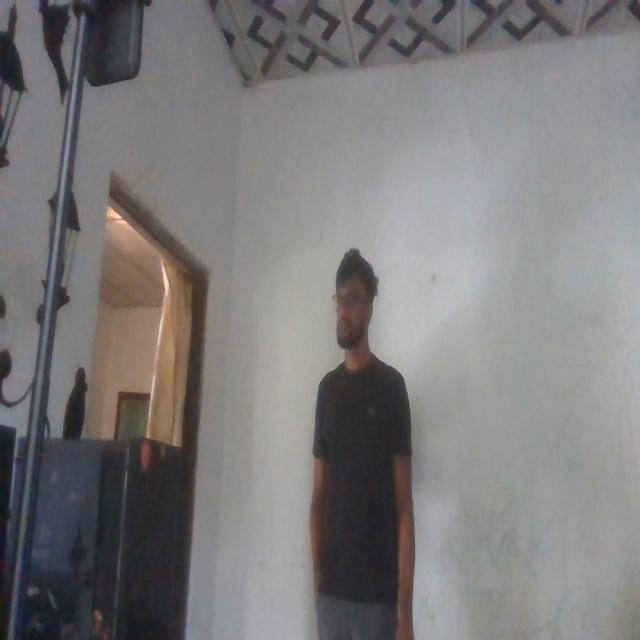Person: (304, 245, 422, 640)
